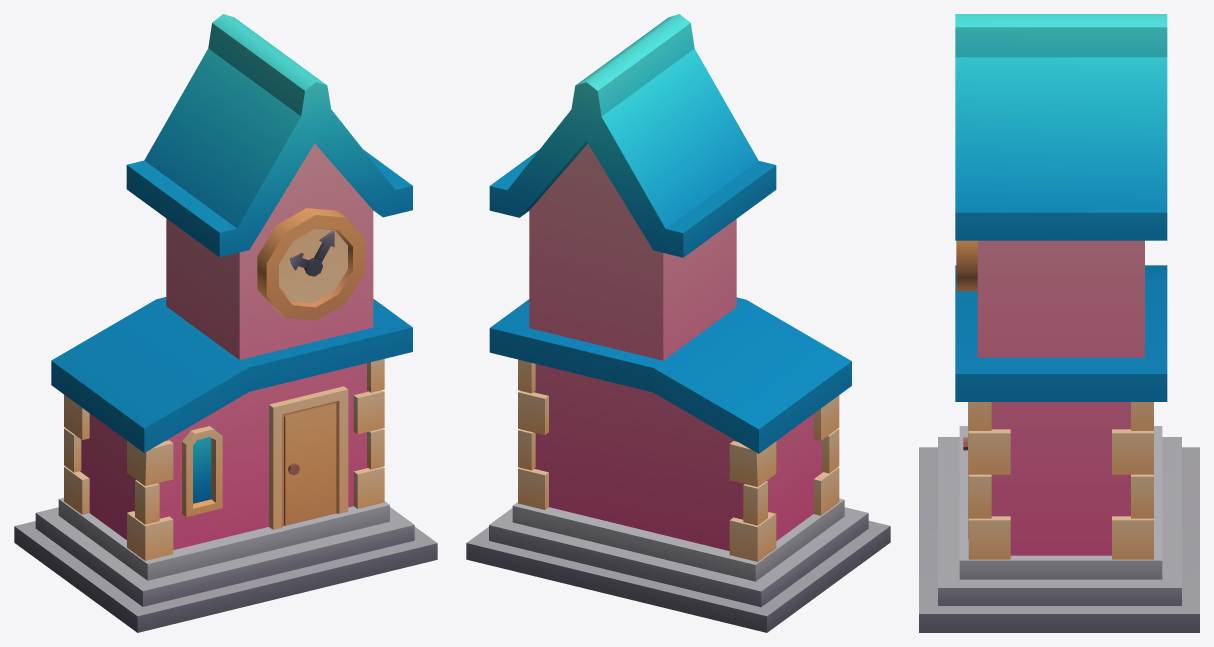
Rendered from SM_Tower.fbx.
3 views of the same model, side by side, from view 1: azimuth 30°, elevation 25°; view 2: azimuth 150°, elevation 25°; view 3: azimuth 270°, elevation 25° (orthographic). The views are drawn at different scales.
Visible parts, largest first — view 1: SM_Tower; view 2: SM_Tower; view 3: SM_Tower.
Boxes of the visible parts, x1=… form: SM_Tower: x1=14, y1=14, x2=437, y2=632; SM_Tower: x1=466, y1=14, x2=890, y2=632; SM_Tower: x1=919, y1=14, x2=1199, y2=632.
Size of the model in its own units: 10.78 by 16.88 by 7.67.
